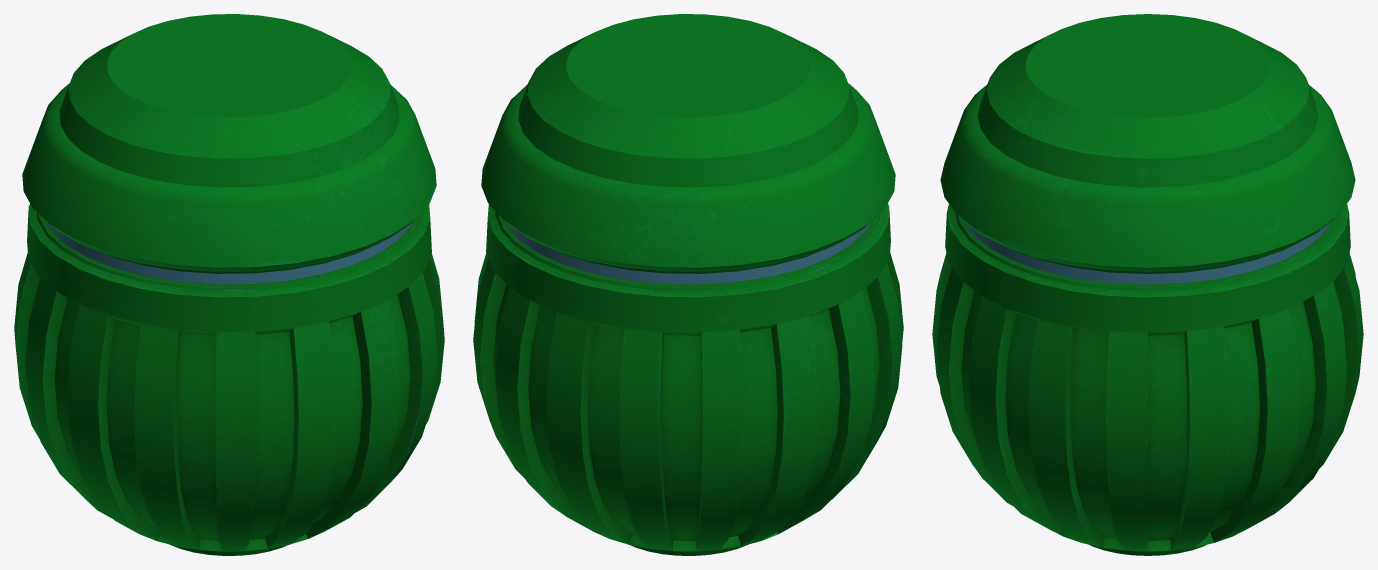
The model's file is EMP.fbx.
The picture shows the model from 3 angles, left to right: view 1: azimuth 30°, elevation 25°; view 2: azimuth 150°, elevation 25°; view 3: azimuth 270°, elevation 25°; orthographic projection.
Parts seen in each view (by area): view 1: EMP; view 2: EMP; view 3: EMP.
Boxes of the visible parts, bbox=[...] form: EMP: bbox=[14, 14, 444, 555]; EMP: bbox=[473, 14, 903, 555]; EMP: bbox=[932, 14, 1363, 555].
Size of the model in its own units: 9 by 10.55 by 9.
